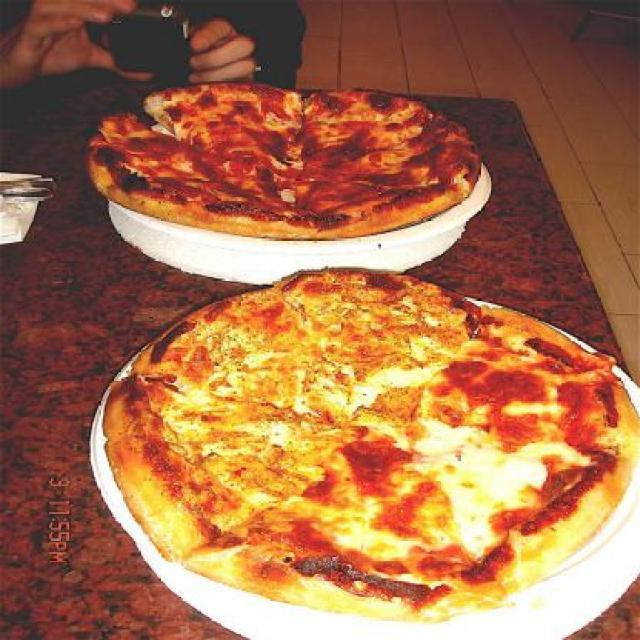Pizza: (110, 278, 639, 627), (84, 83, 480, 240)
